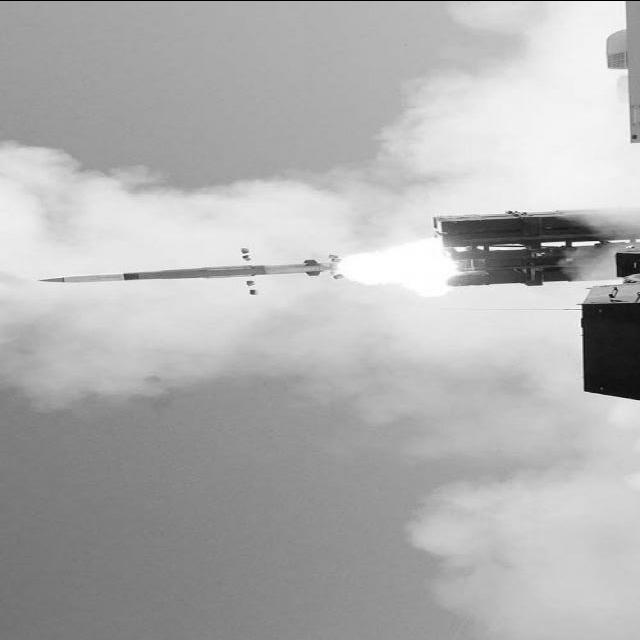Missile: (27, 257, 333, 284)
